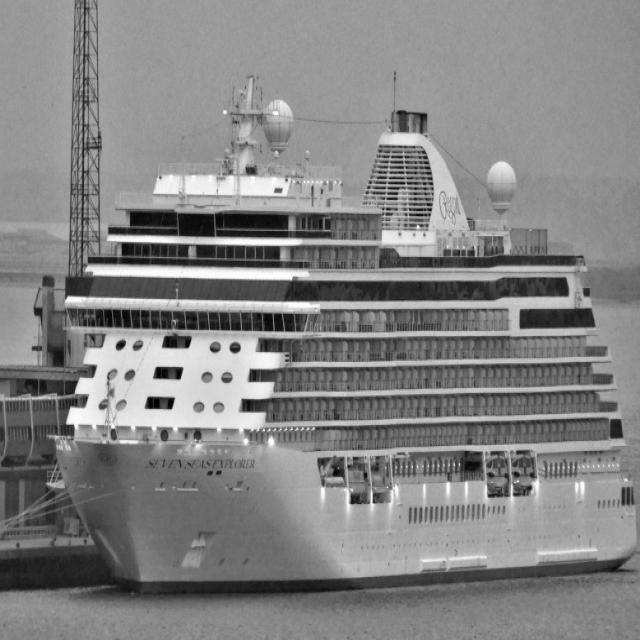cruises: (48, 64, 640, 605)
